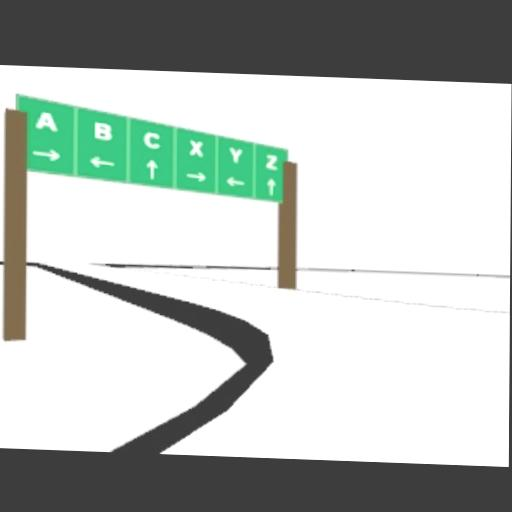A: (34, 109, 61, 133)
B: (92, 119, 114, 143)
C: (142, 128, 162, 150)
Left: (88, 153, 117, 170), (225, 174, 246, 189)
Right: (31, 145, 62, 163), (185, 169, 209, 183)
Straight: (145, 155, 160, 180), (266, 175, 278, 197)
X: (188, 136, 206, 159)
Y: (227, 145, 244, 165)
Z: (264, 151, 279, 171)
